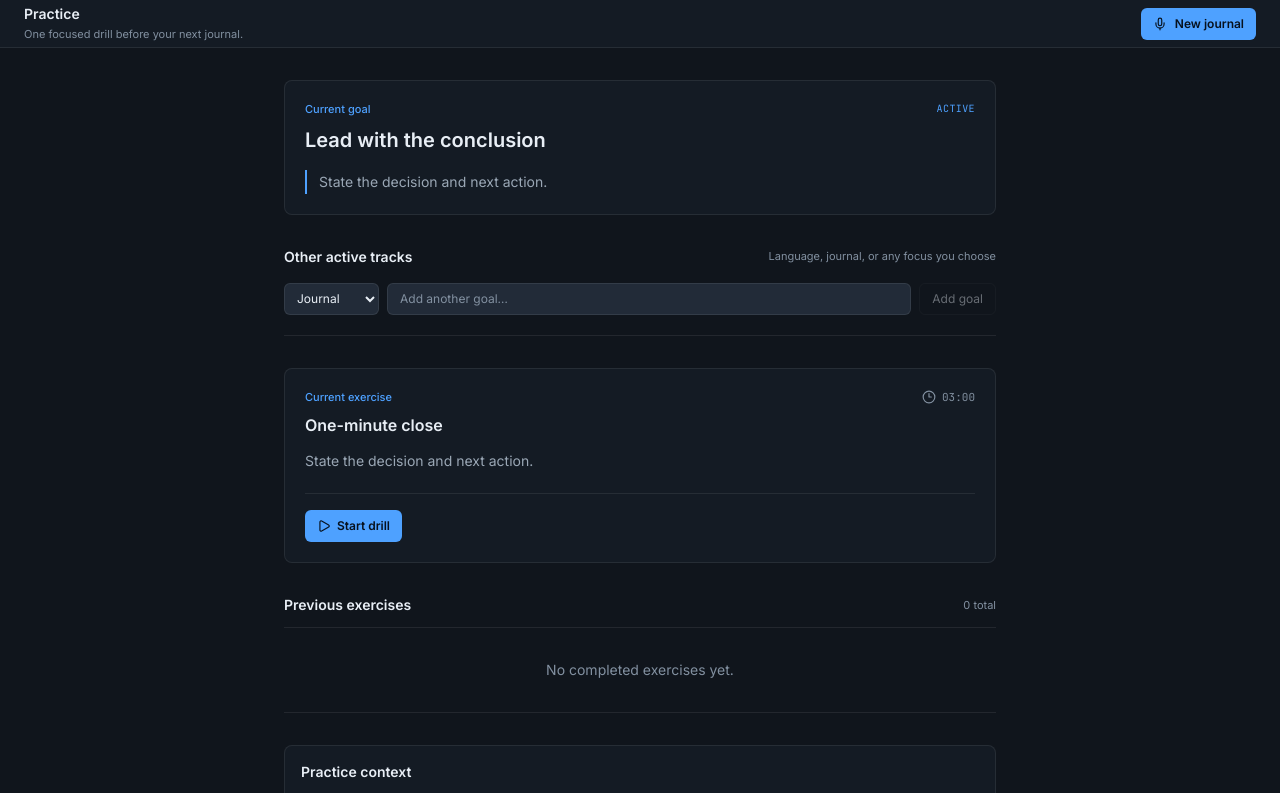
Practice › runs the focused timer and exposes all completion outcomes
Expected: the heading "One-minute close" is shown, [305,415,443,435]
Click the button "Start drill": (354,526) [305,510,402,542]
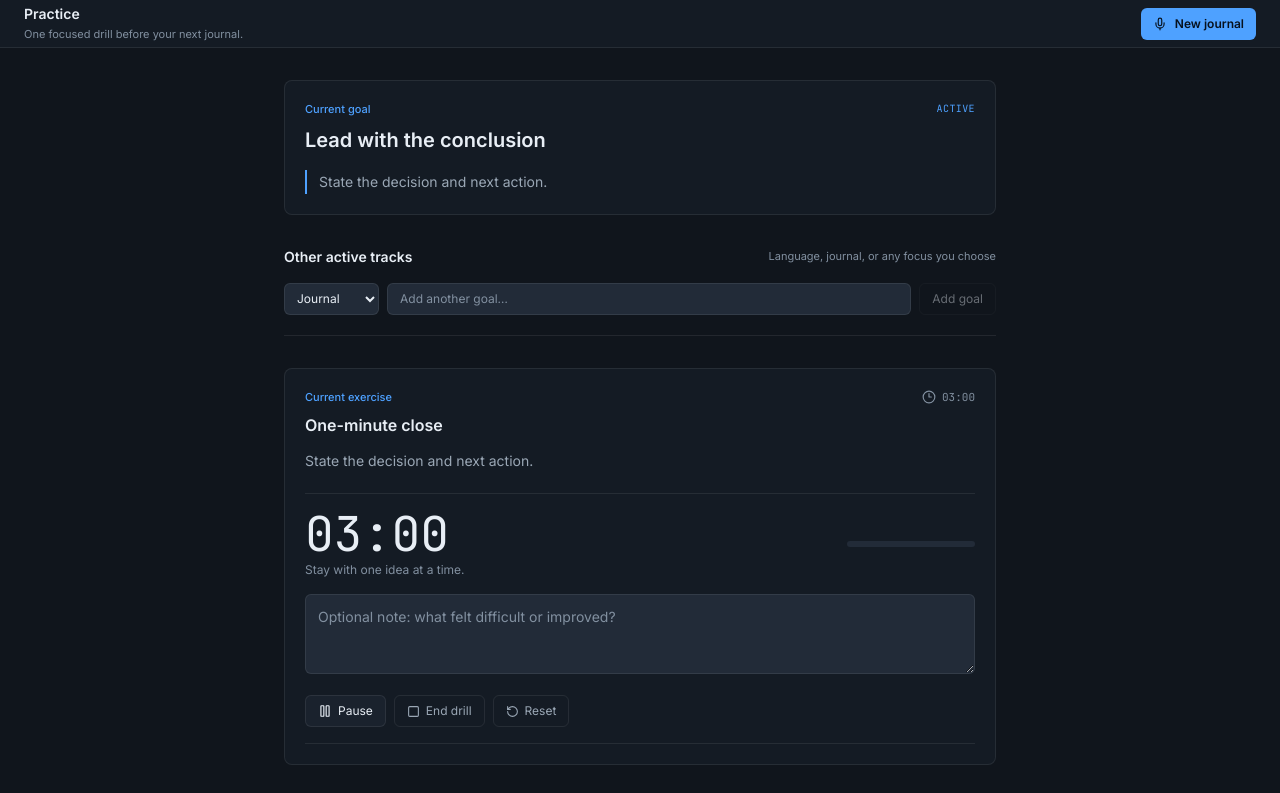
Now the button "Pause" is shown, box [305,695,386,727]
Now the button "Reset" is shown, box [493,695,569,727]
Click the button "End drill": (439,711) [394,695,484,727]
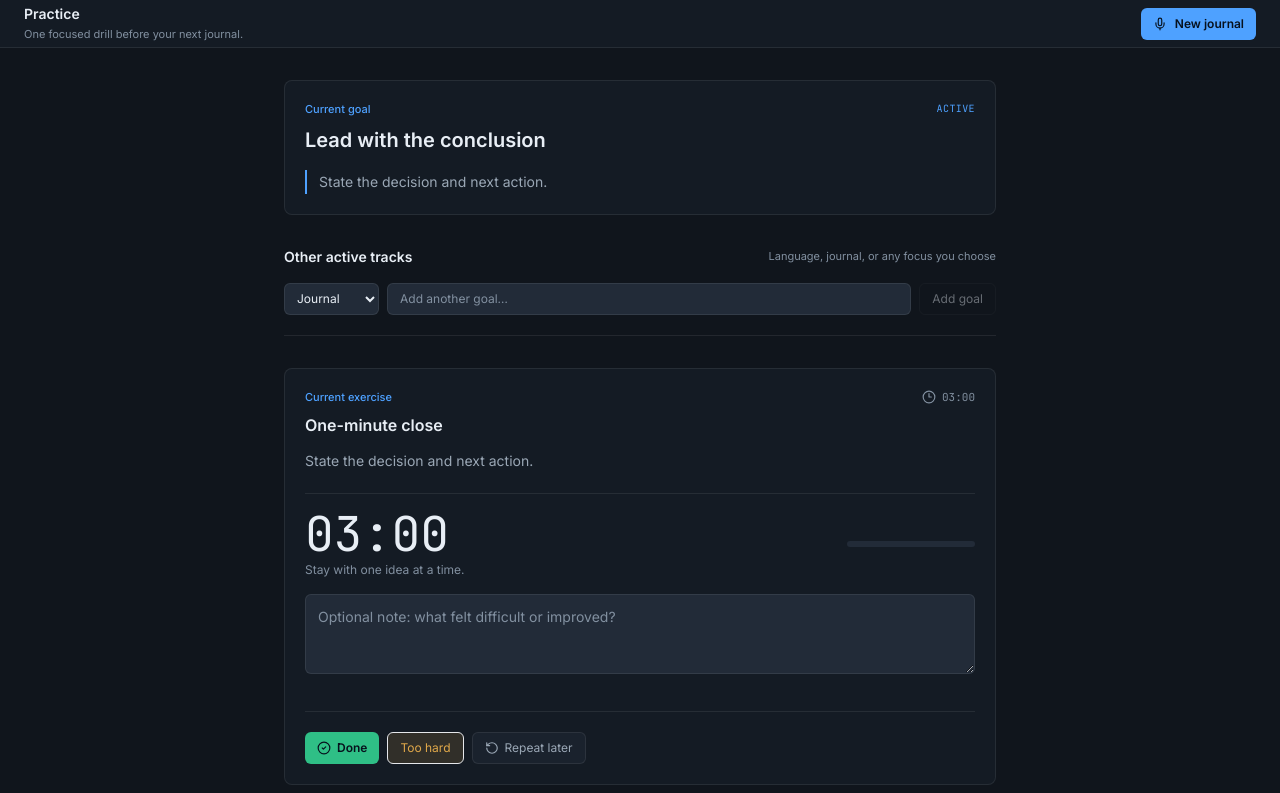
Now the button "Done" is shown, box [305,732,379,764]
Now the button "Too hard" is shown, box [387,732,464,764]
Now the button "Repeat later" is shown, box [472,732,586,764]
